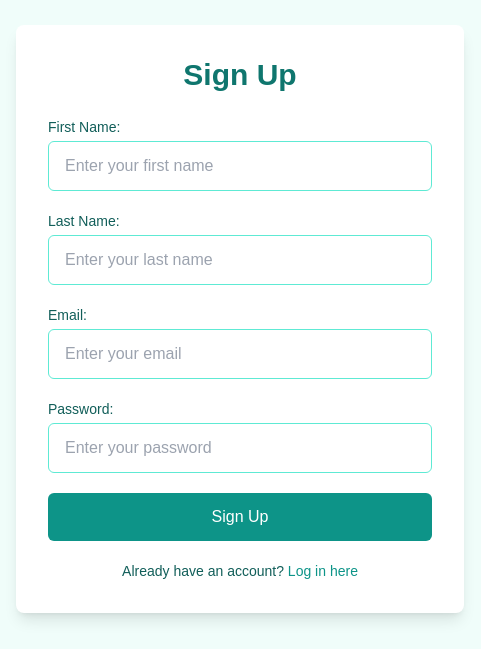
signup_page_test › Should not let users register with invalid email format
The image size is (481, 649).
Type "First" into the field named "first_name" at x=240, y=166, box [48,141,432,191]
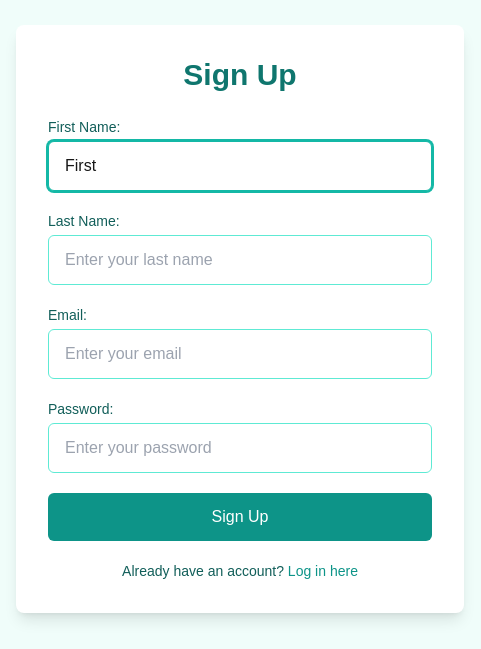
Type "Last" into the field named "last_name" at x=240, y=260, box [48,235,432,285]
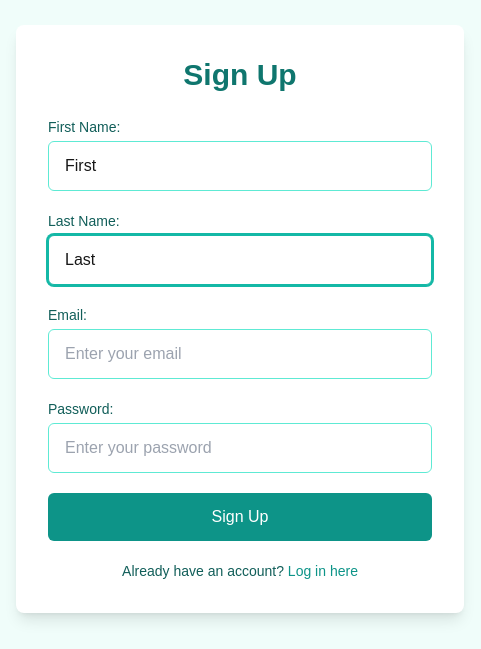
Type "invalidEmail" into the field labelled "Email:" at x=240, y=354, box [48,329,432,379]
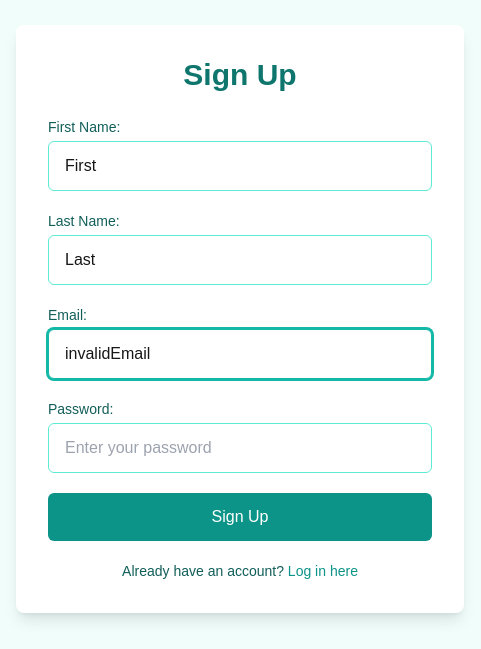
Type "validPassword1!" into the password field labelled "Password:" at x=240, y=448, box [48,423,432,473]
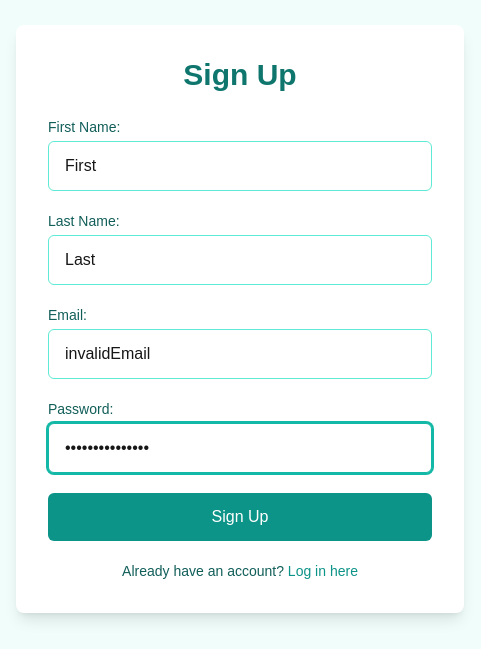
Click the submit button at x=240, y=517, box [48,493,432,541]
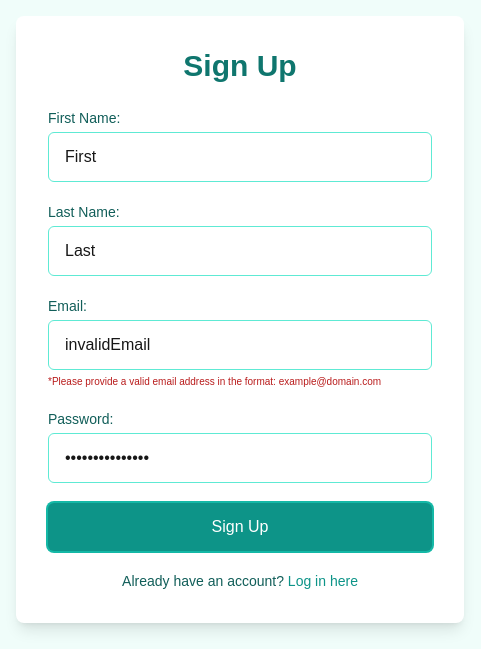
Expected: the text with class "error_message" is shown, [48,374,432,389]
Expected: the text with class "error_message" reads "*Please provide a valid email address in the format: example@domain.com", [48,376,381,387]
